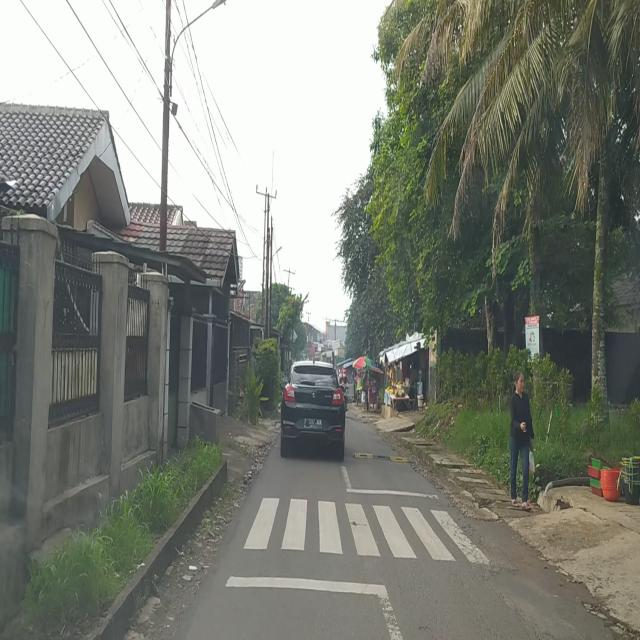Drain Hole: (446, 492, 492, 574)
